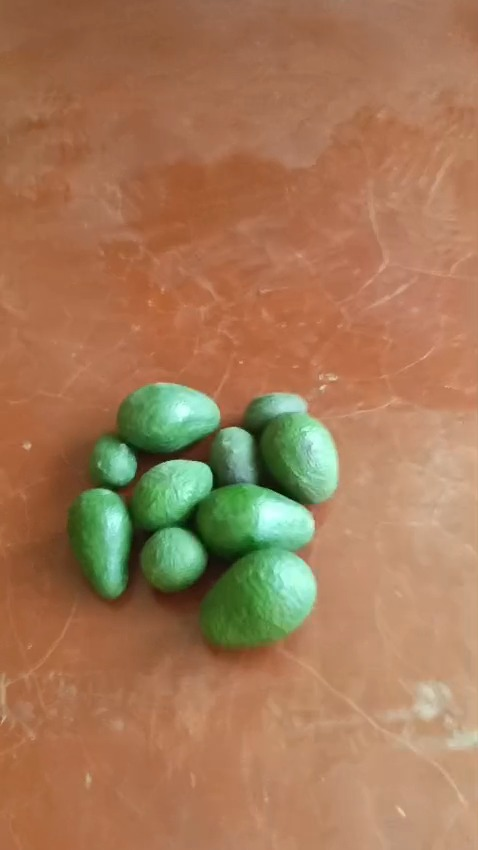Primera: (197, 546, 317, 649), (194, 482, 315, 557), (115, 381, 223, 453), (257, 410, 338, 504)
Segunda: (66, 487, 134, 600), (129, 458, 215, 531)
Tercera: (137, 523, 210, 593), (208, 425, 259, 486), (242, 391, 309, 434), (89, 434, 138, 488)
